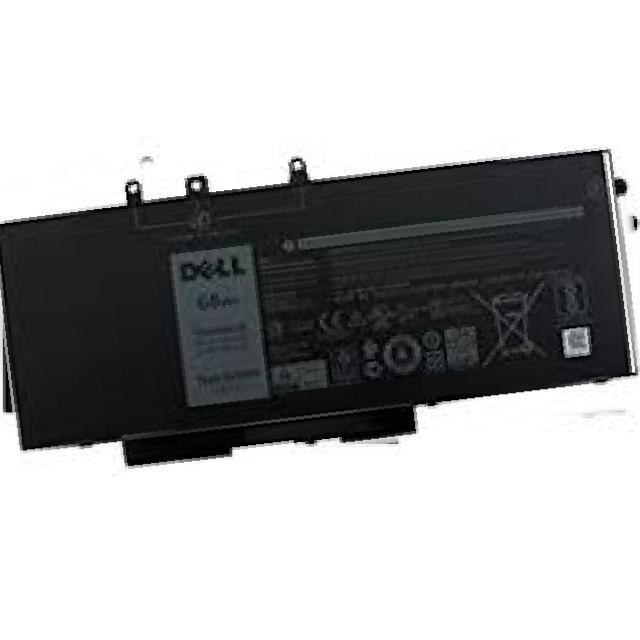Battery: (0, 127, 640, 495)
